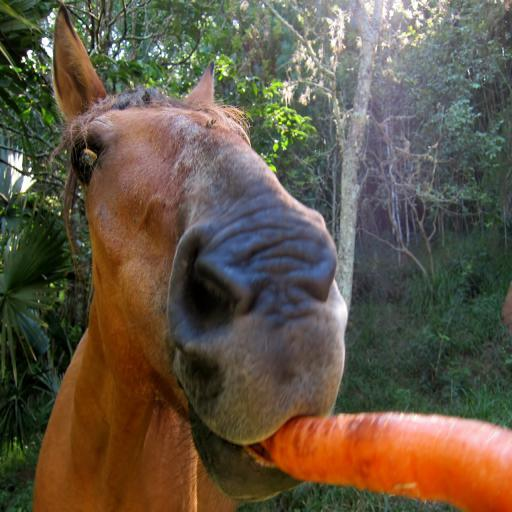Horse: (32, 0, 348, 512)
